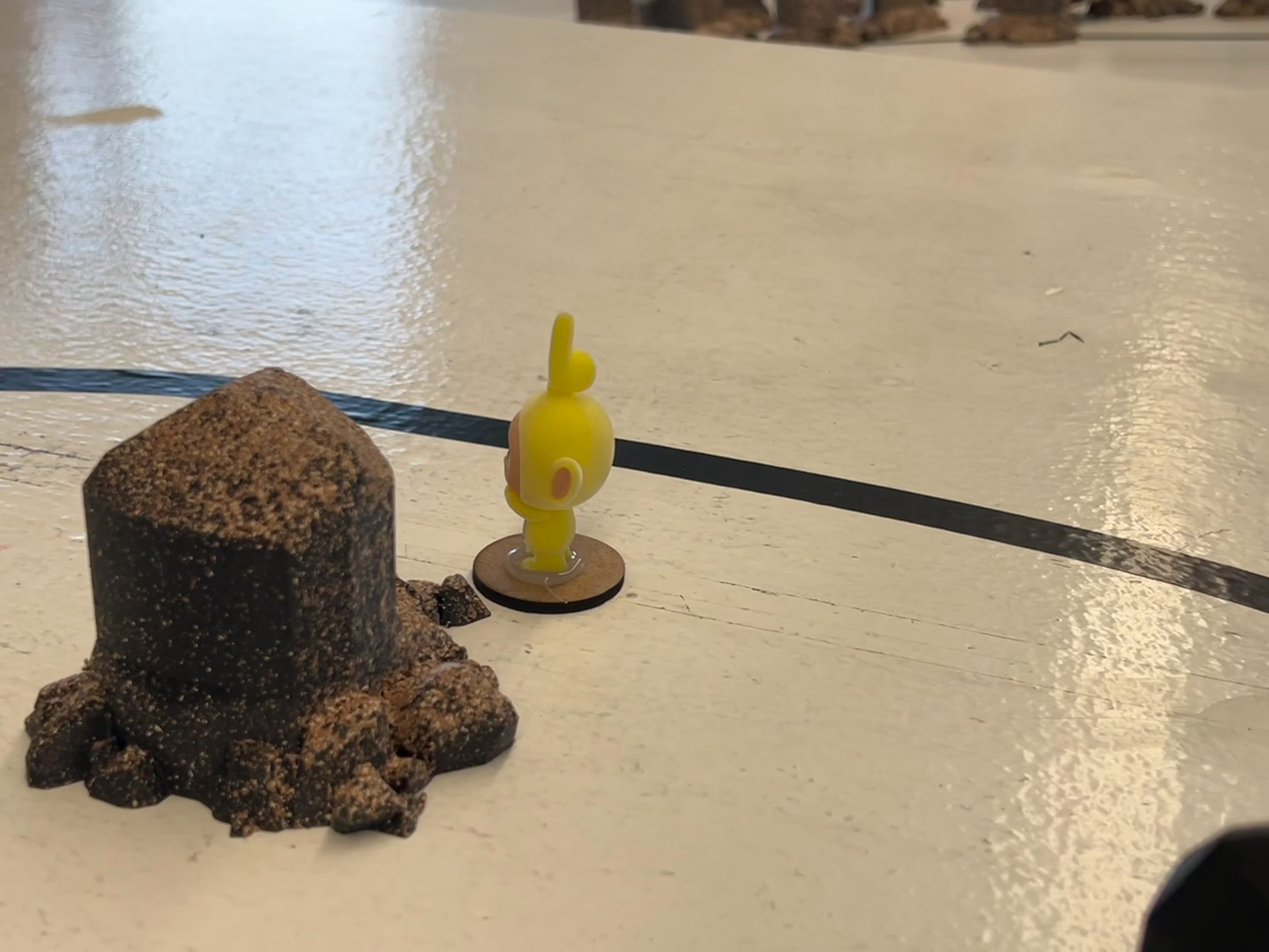teletubby: (504, 313, 615, 572)
